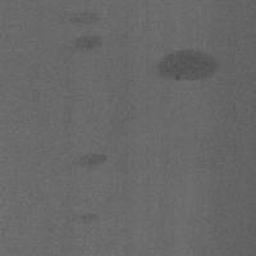Oil spot: (154, 49, 221, 82), (76, 152, 108, 166), (70, 13, 97, 26), (76, 36, 102, 49), (79, 214, 99, 223)
